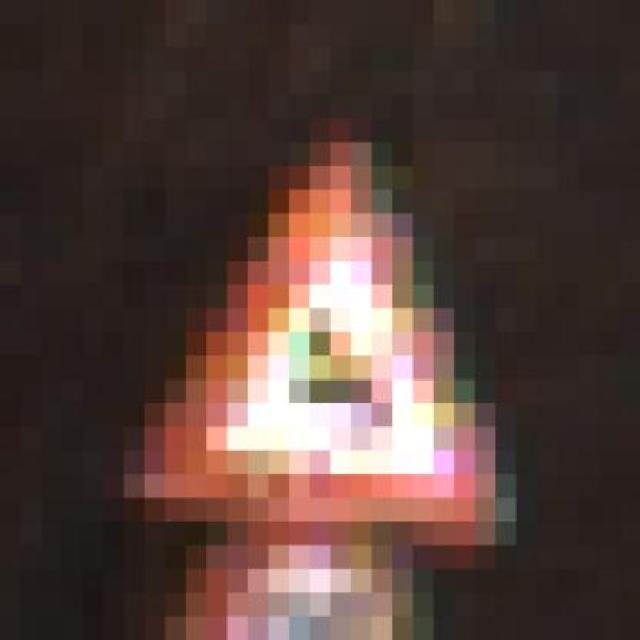Left Zig Zag Traffic: (112, 113, 526, 564)
